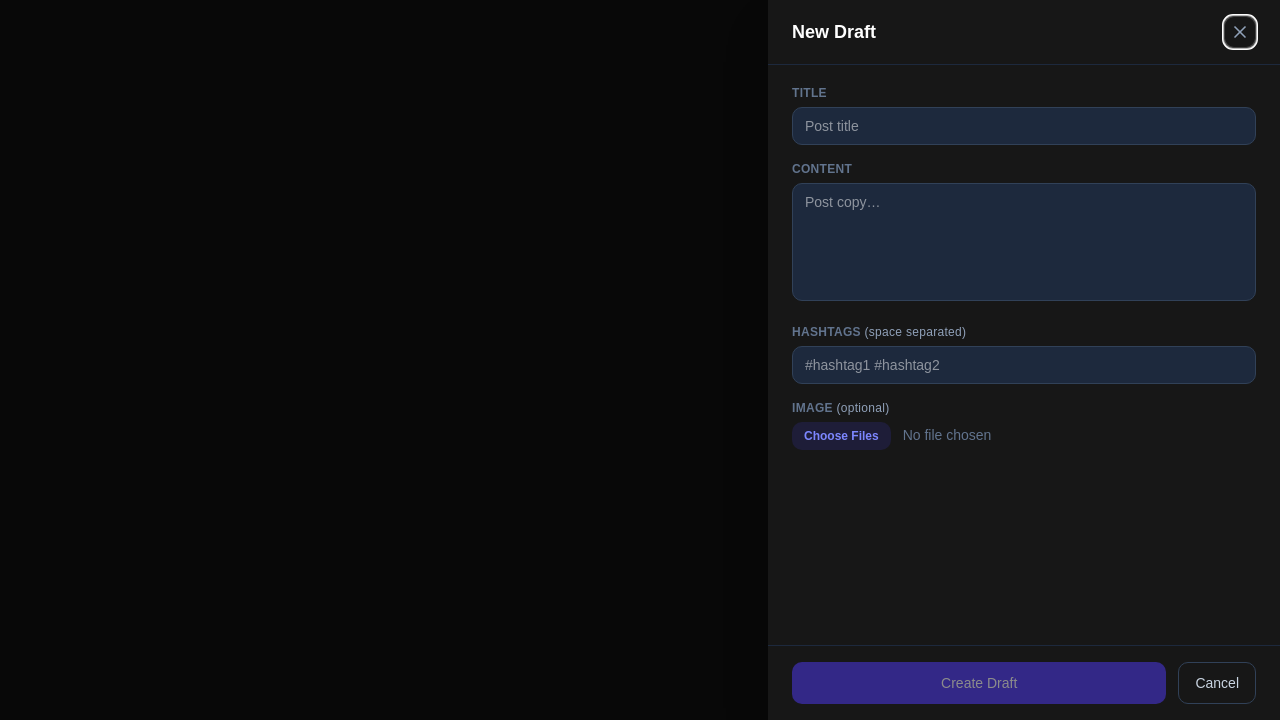
CreateDraftDrawer › keeps the submit button disabled until title and content are filled
The width and height of the screenshot is (1280, 720).
Expected: the button "Create Draft" is disabled, 792,662 -> 1166,704
Step 1. Type "My draft" into the field labelled "Title" → point(1024, 126), box 792,107 -> 1256,145
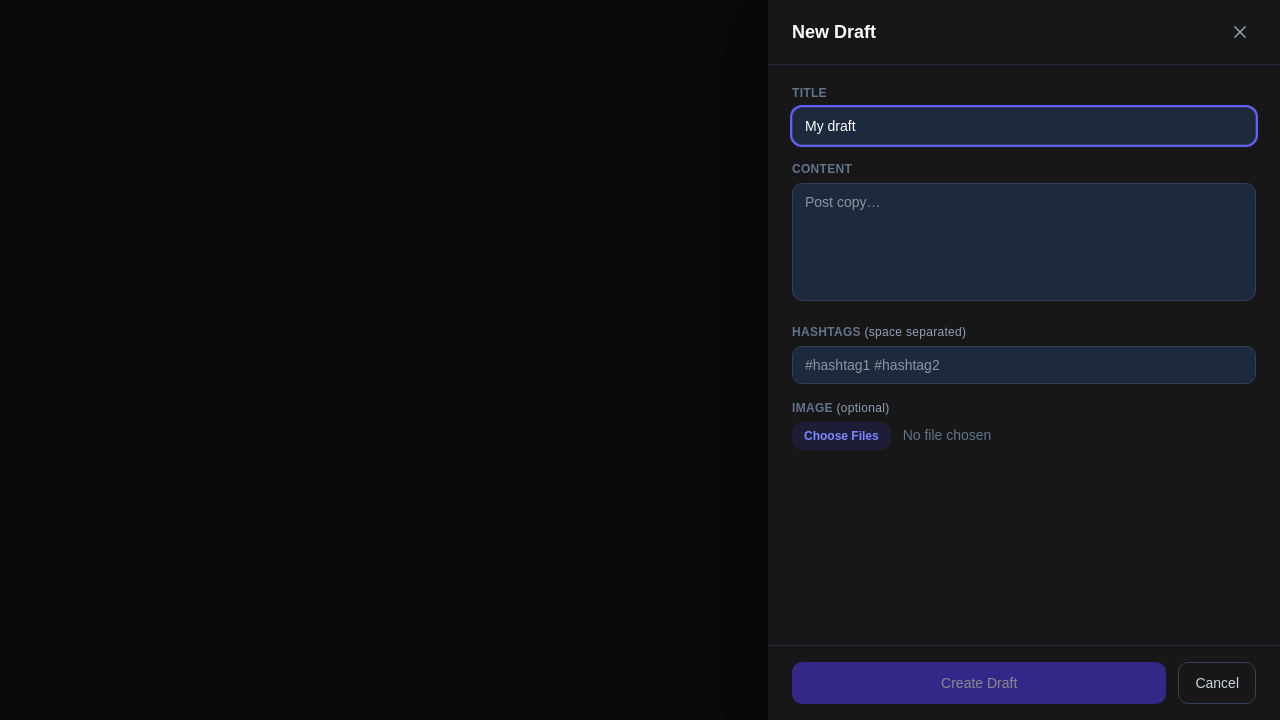
Expected: the button "Create Draft" is disabled, 792,662 -> 1166,704
Step 2. Type "Body text" into the text box labelled "Content" → point(1024, 242), box 792,183 -> 1256,301
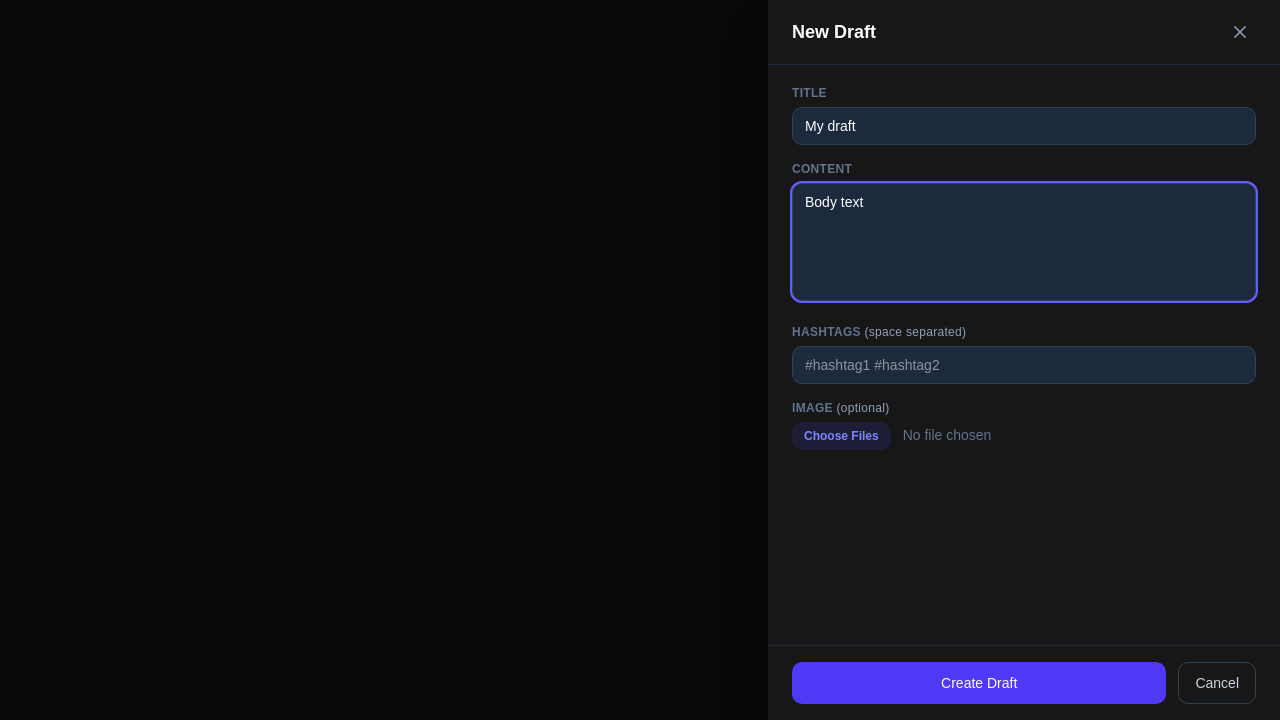
Expected: the button "Create Draft" is enabled, 792,662 -> 1166,704
